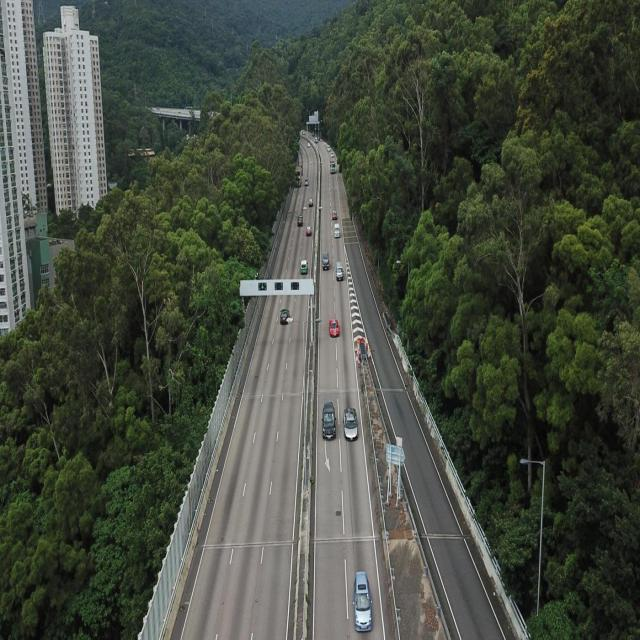car: (352, 570, 372, 632), (321, 402, 336, 439), (343, 406, 358, 441), (329, 318, 339, 337), (322, 252, 329, 270), (300, 259, 307, 274)
tree: (330, 0, 640, 638)
